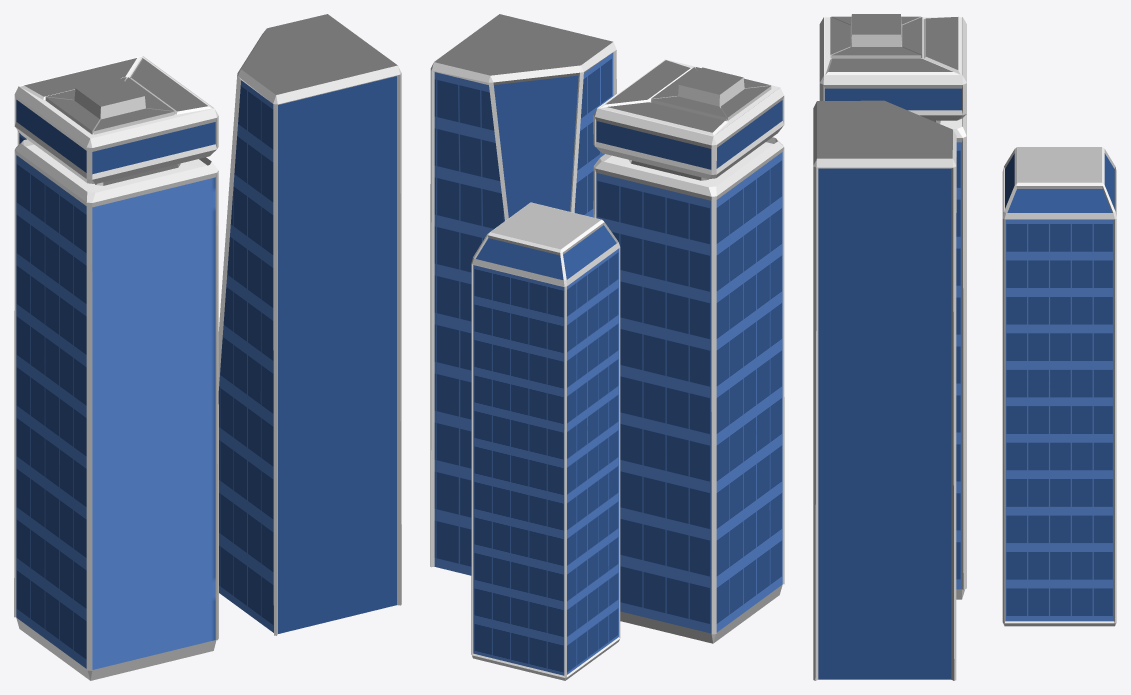
File: Buildings.fbx
The picture shows the model from 3 angles, left to right: view 1: azimuth 30°, elevation 25°; view 2: azimuth 150°, elevation 25°; view 3: azimuth 270°, elevation 25°; orthographic projection. The views are drawn at different scales.
Parts seen in each view (by area): view 1: Cube, Tower4; view 2: Cube, Tower3, Tower4; view 3: Tower4, Tower3, Cube.
Boxes of the visible parts, x1,y1,x2,y2 form: Cube: (14,56,218,680); Tower4: (218,14,401,635); Cube: (593,59,784,643); Tower3: (471,202,620,680); Tower4: (430,14,616,575); Tower4: (813,100,956,680); Tower3: (1002,147,1116,626); Cube: (819,14,966,599).
Bounding box in the file's own units: 41.1 × 70.52 × 35.91.
